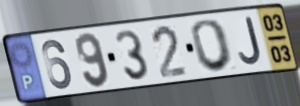2: (150, 23, 190, 80)
3: (115, 29, 151, 82)
6: (40, 38, 74, 91)
9: (74, 31, 111, 90)
J: (237, 15, 264, 67)
O: (189, 17, 237, 74)
